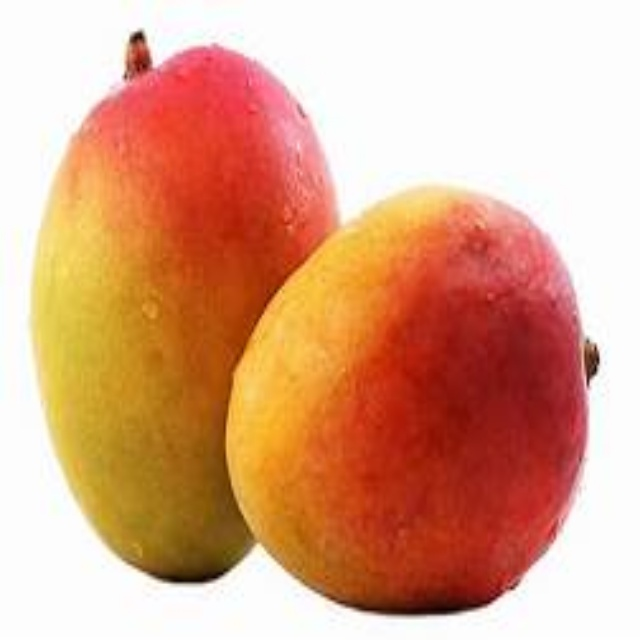mango: (225, 189, 615, 615), (32, 47, 335, 580)
